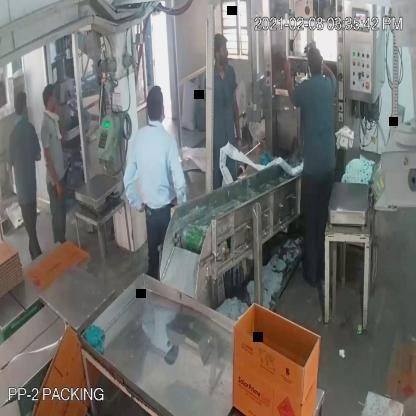no_glove: (162, 139, 188, 213), (42, 134, 67, 209), (230, 73, 248, 176), (116, 160, 148, 216), (322, 58, 348, 111), (280, 51, 296, 104)
